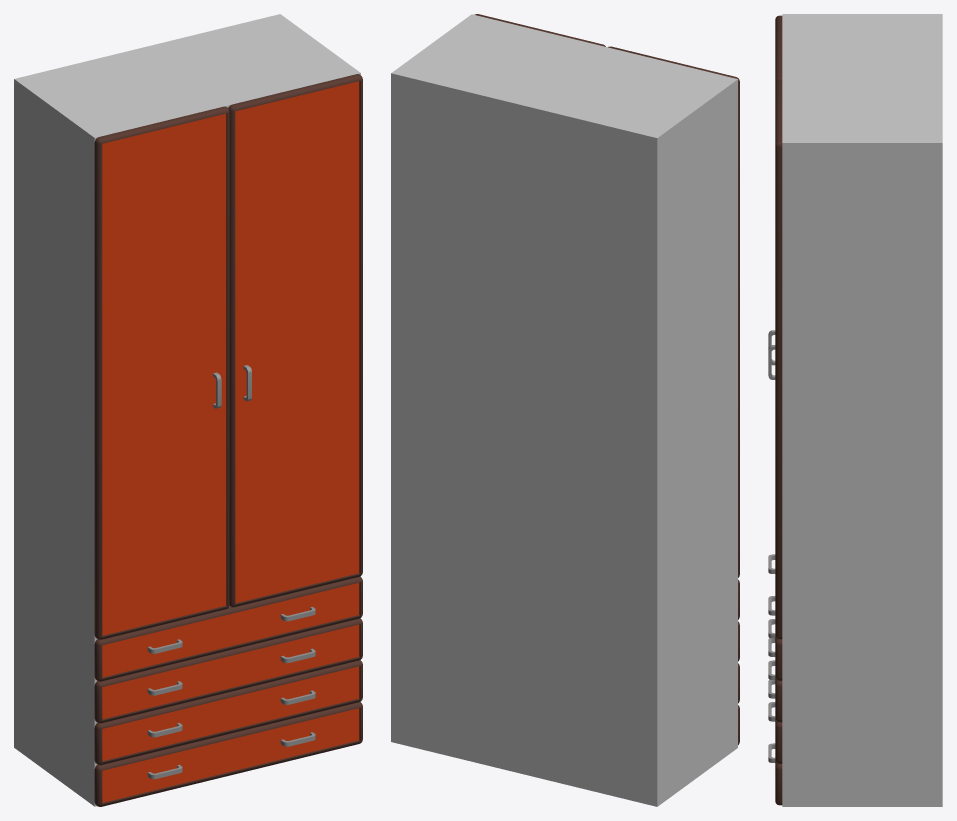
File: mobileArancio.obj
3 views of the same model, side by side, from view 1: azimuth 30°, elevation 25°; view 2: azimuth 150°, elevation 25°; view 3: azimuth 270°, elevation 25° (orthographic).
Visible parts, largest first — view 1: Box01_1, Box02_3, Box03_4, Box04_7, Box05_8, Box06_10, Box07_12, ChamferBox01_2, ChamferBox02_5, ChamferBox06_13, ChamferBox03_6, ChamferBox05_11 (+1 smaller); view 2: Box01_1, ChamferBox01_2; view 3: Box01_1, ChamferBox02_5, ChamferBox01_2, ChamferBox04_9, ChamferBox06_13, ChamferBox03_6, ChamferBox05_11.
Part boxes in pixels (x1,y1,x2,y2): Box01_1: (14,14,360,806); Box02_3: (102,113,226,635); Box03_4: (235,81,359,603); Box04_7: (102,708,359,802); Box05_8: (102,666,359,760); Box06_10: (102,624,359,719); Box07_12: (102,583,359,677); ChamferBox01_2: (94,106,229,639); ChamferBox02_5: (228,74,362,607); ChamferBox06_13: (94,576,362,681); ChamferBox03_6: (94,702,362,806); ChamferBox05_11: (94,618,362,723); Box01_1: (391,14,737,806); ChamferBox01_2: (608,46,739,577); Box01_1: (782,14,942,806); ChamferBox02_5: (775,80,782,639); ChamferBox01_2: (775,15,782,82); ChamferBox04_9: (775,719,782,763); ChamferBox06_13: (775,636,782,680); ChamferBox03_6: (775,760,782,805); ChamferBox05_11: (775,677,782,722).
Size of the model in its own units: 100 by 240 by 57.
